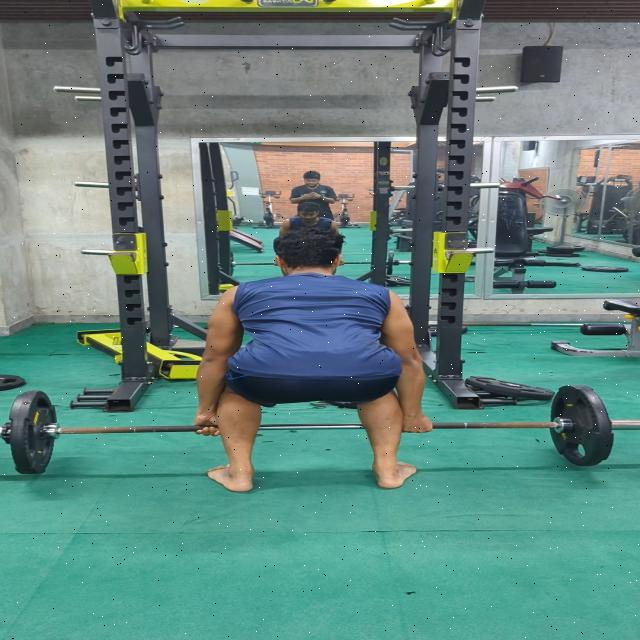Normal_Deadlifts: (193, 229, 436, 493)
